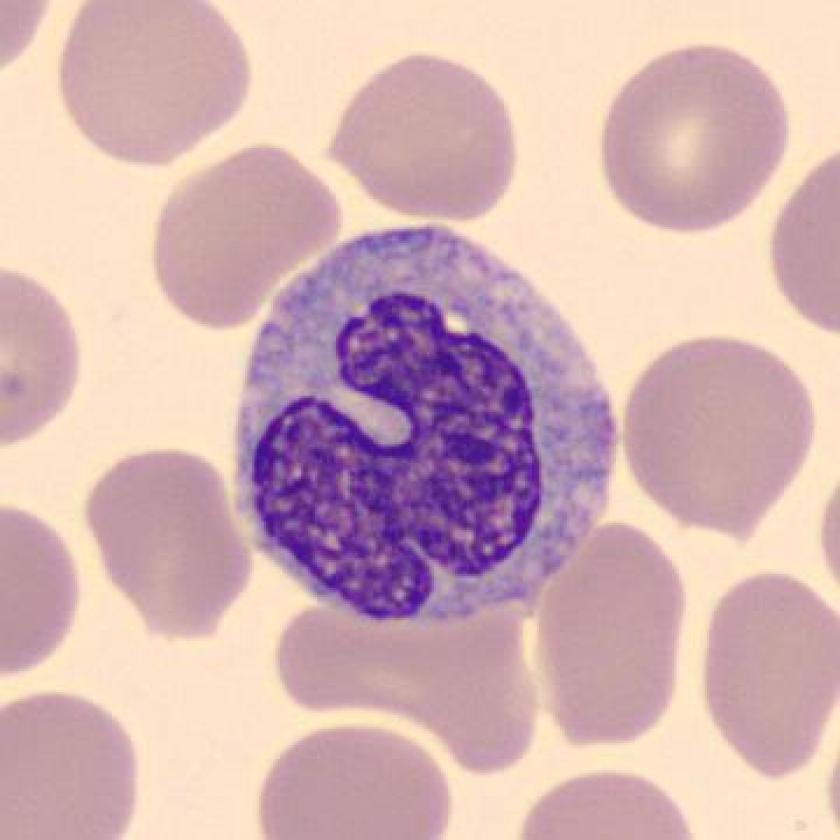monocyte: (214, 214, 641, 644)
